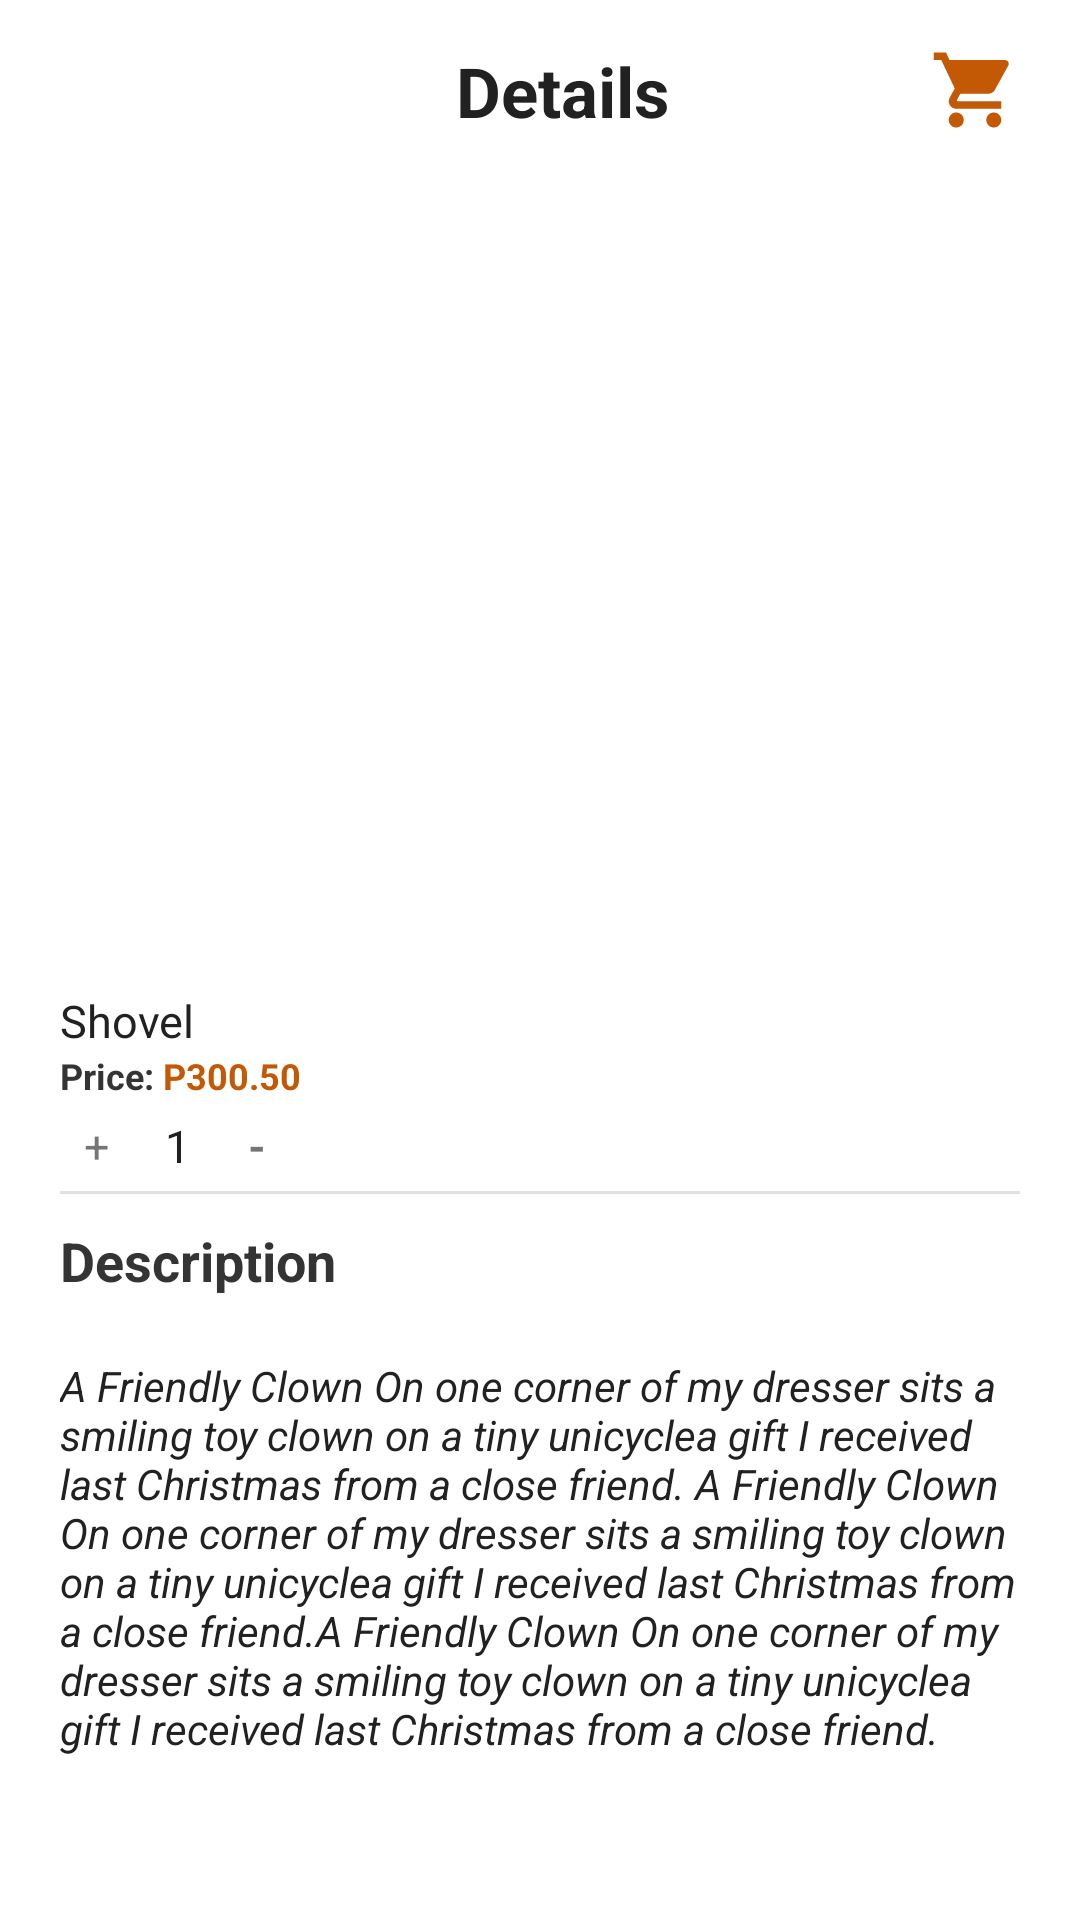

Named icons in this screenshot (1080px×1920px) and their bounding boxes, (x1,y1,x2,y2):
shopping cart: (933,52,1009,128)
